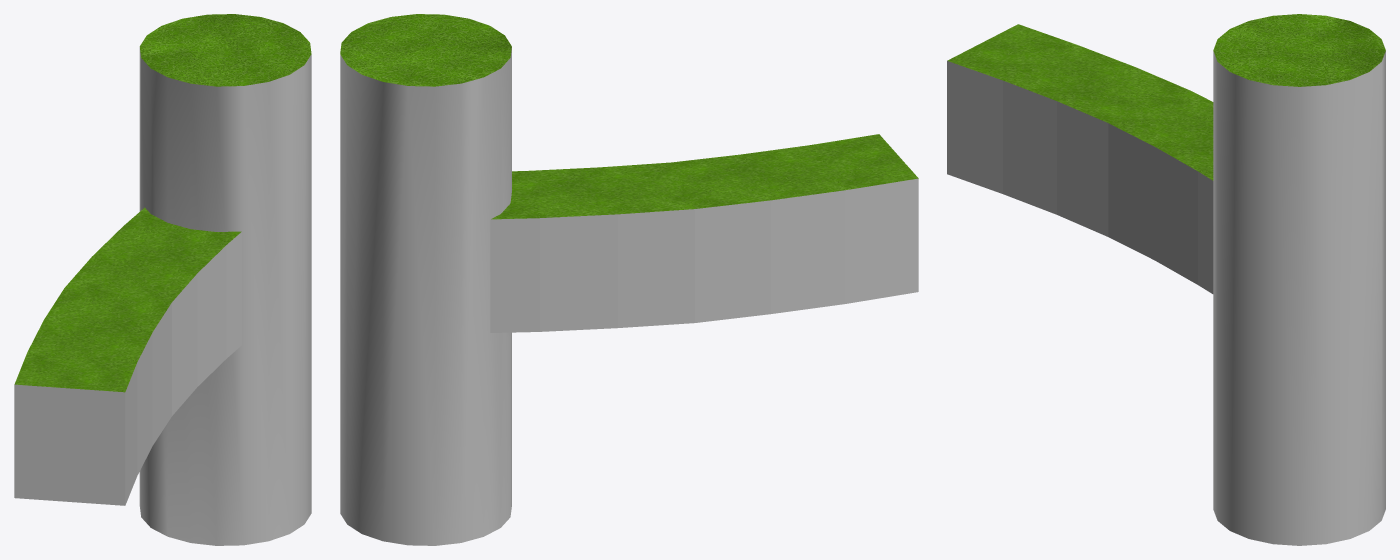
Rendered from SM_world_1_floating_island_low_2.fbx.
The picture shows the model from 3 angles, left to right: view 1: azimuth 30°, elevation 25°; view 2: azimuth 150°, elevation 25°; view 3: azimuth 270°, elevation 25°; orthographic projection.
Visible parts, largest first — view 1: Main_mesh.003; view 2: Main_mesh.003; view 3: Main_mesh.003.
Part boxes in pixels (<box>): Main_mesh.003: <box>14,14,311,545</box>; Main_mesh.003: <box>340,14,918,545</box>; Main_mesh.003: <box>947,14,1385,545</box>.
Size of the model in its own units: 47.69 by 42.51 by 49.05.
